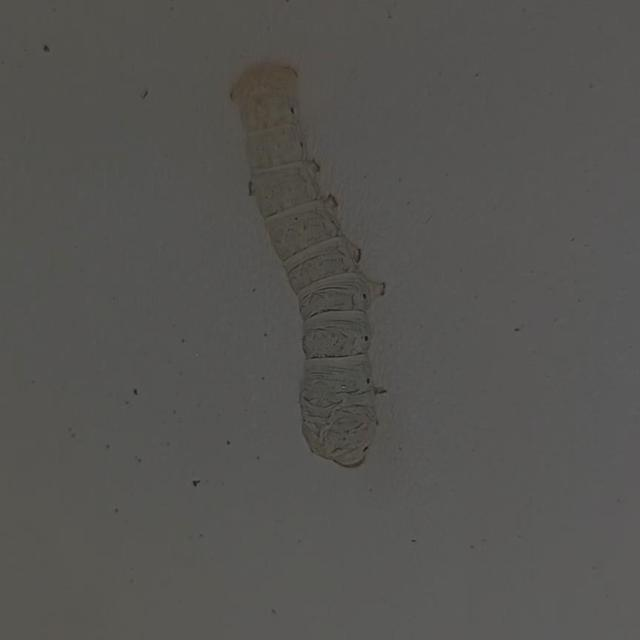Healthy: (214, 52, 404, 479)
